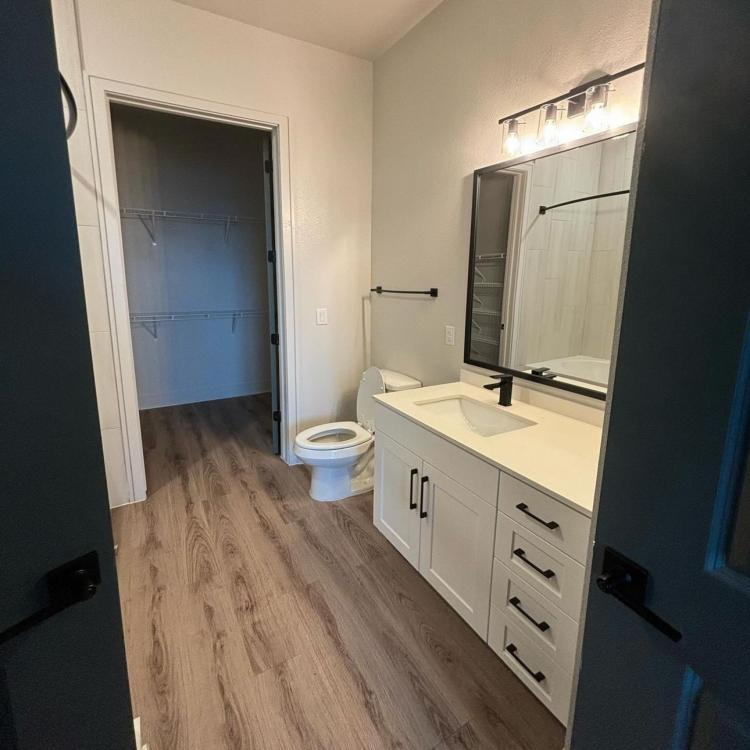OpenDoor: (82, 72, 296, 488)
